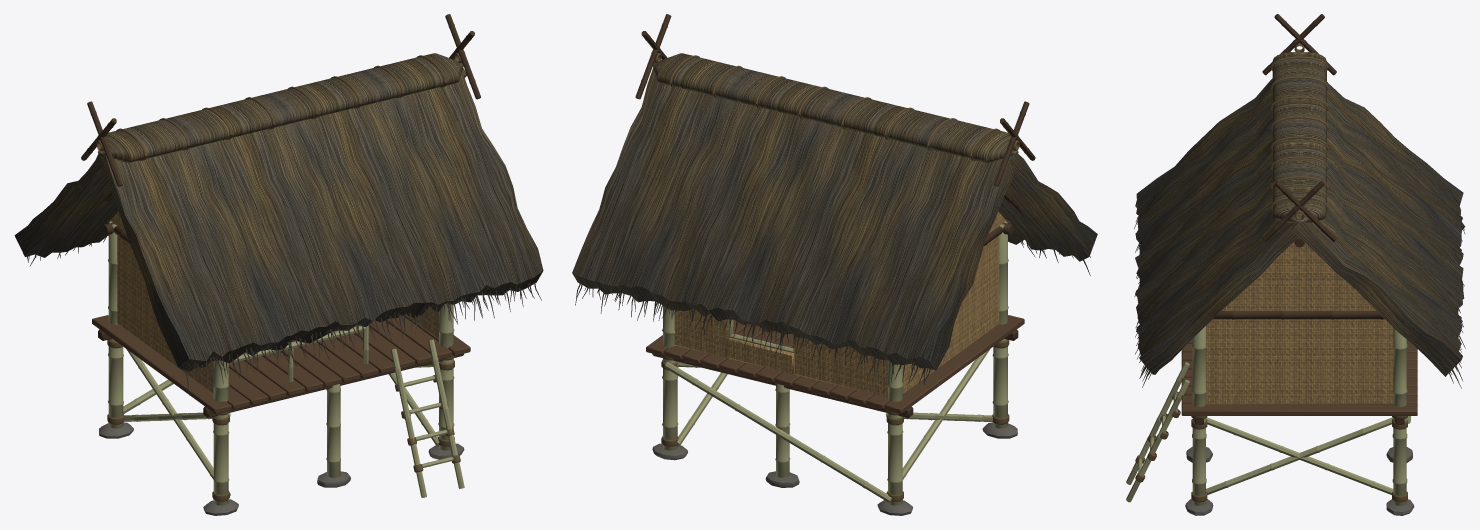
Rendered from hut.glb.
3 renders of one model, left to right at view 1: azimuth 30°, elevation 25°; view 2: azimuth 150°, elevation 25°; view 3: azimuth 270°, elevation 25°, orthographic. The views are drawn at different scales.
Visible parts, largest first — view 1: hut; view 2: hut; view 3: hut.
Part boxes in pixels (x1,y1,x2,y2): hut: (14, 14, 543, 515); hut: (572, 14, 1097, 515); hut: (1126, 14, 1465, 515).
Size of the model in its own units: 3.42 by 3.38 by 2.88.
Materials: 7 (2 with a texture image).
